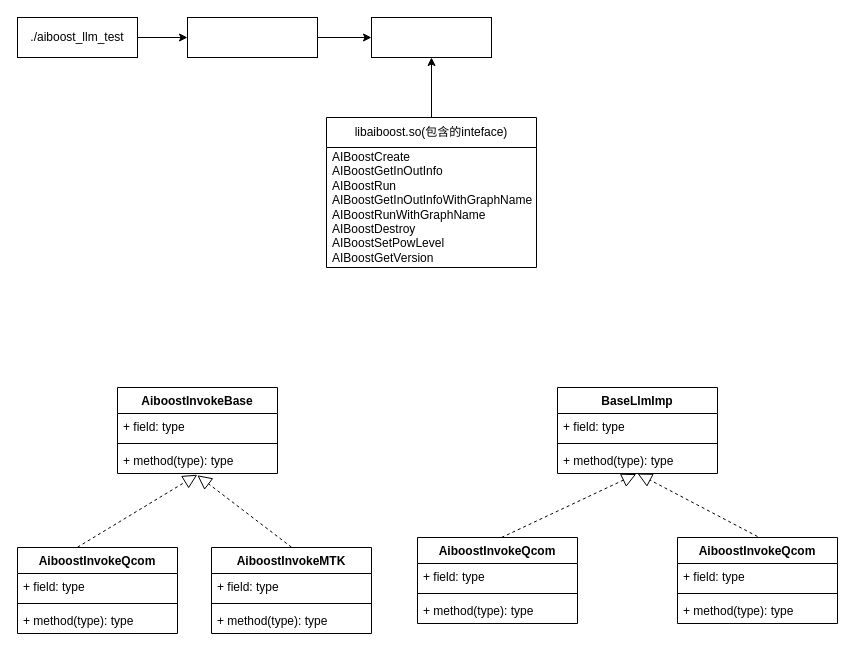
Some shapes in this 855 by 654 pixel diagram are drawn without their labels. The centre of each missing label's shape, as x and y in pixels:
"libaiboost.so 对应类：AiboostImp" belongs at pixel 431 37.
"libaiboost_llm.so 对应类：AiboostLlmImp" belongs at pixel 252 37.
